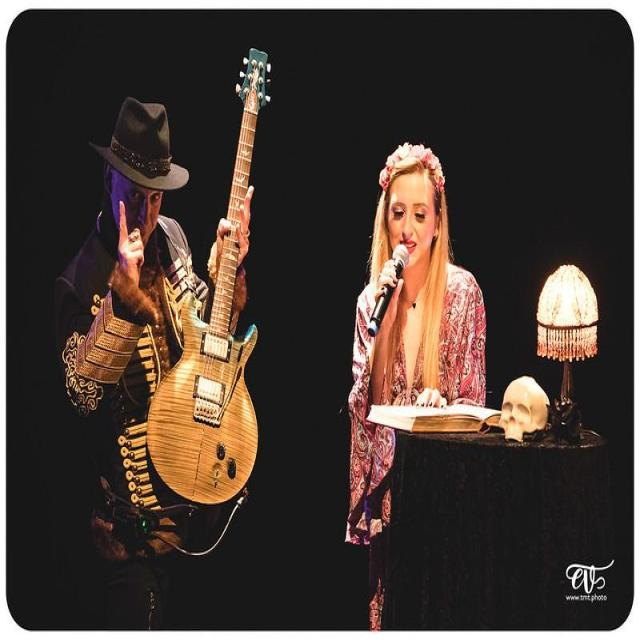guitar: (147, 229, 258, 504)
